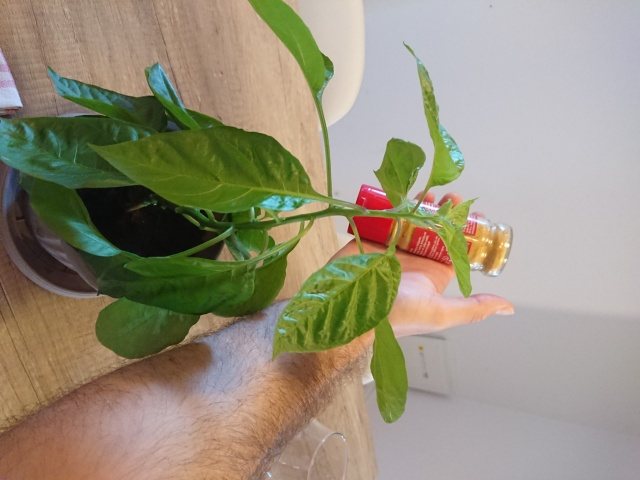Kotanyi Curry Spices Mix 70g: (346, 183, 515, 280)
